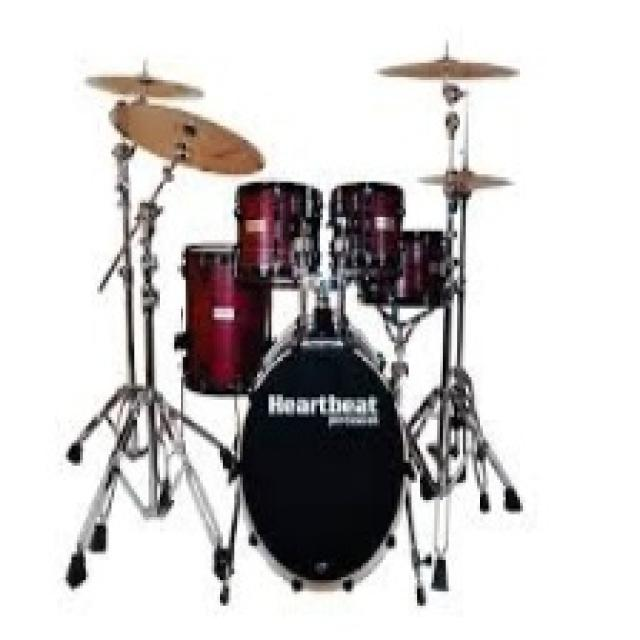drums: (71, 41, 526, 592)
